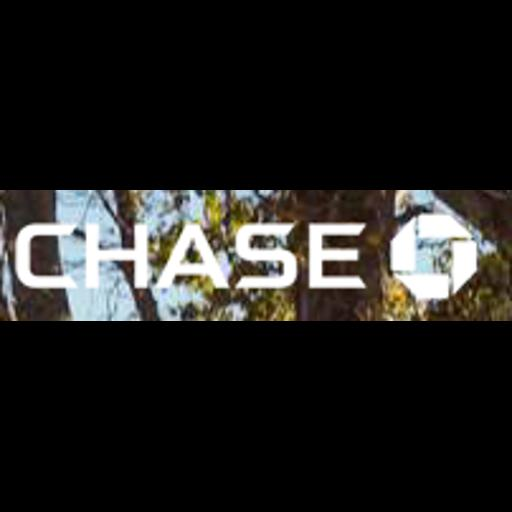Chase Personal Banking: (0, 190, 512, 321)
